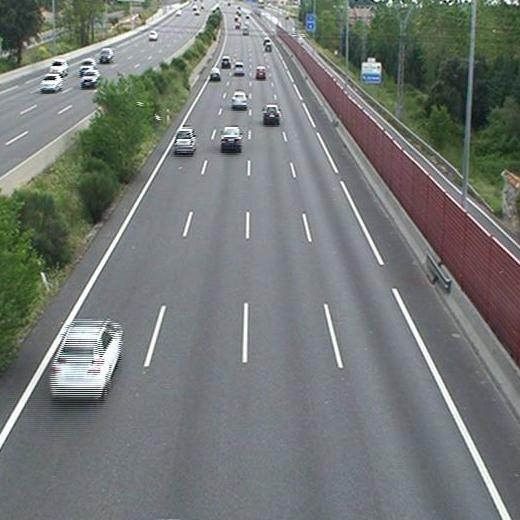car: (50, 321, 122, 395), (174, 129, 196, 152), (221, 126, 242, 147), (263, 106, 280, 121), (232, 92, 247, 106), (255, 66, 266, 79), (221, 56, 232, 68), (234, 63, 245, 74), (210, 69, 221, 79)
